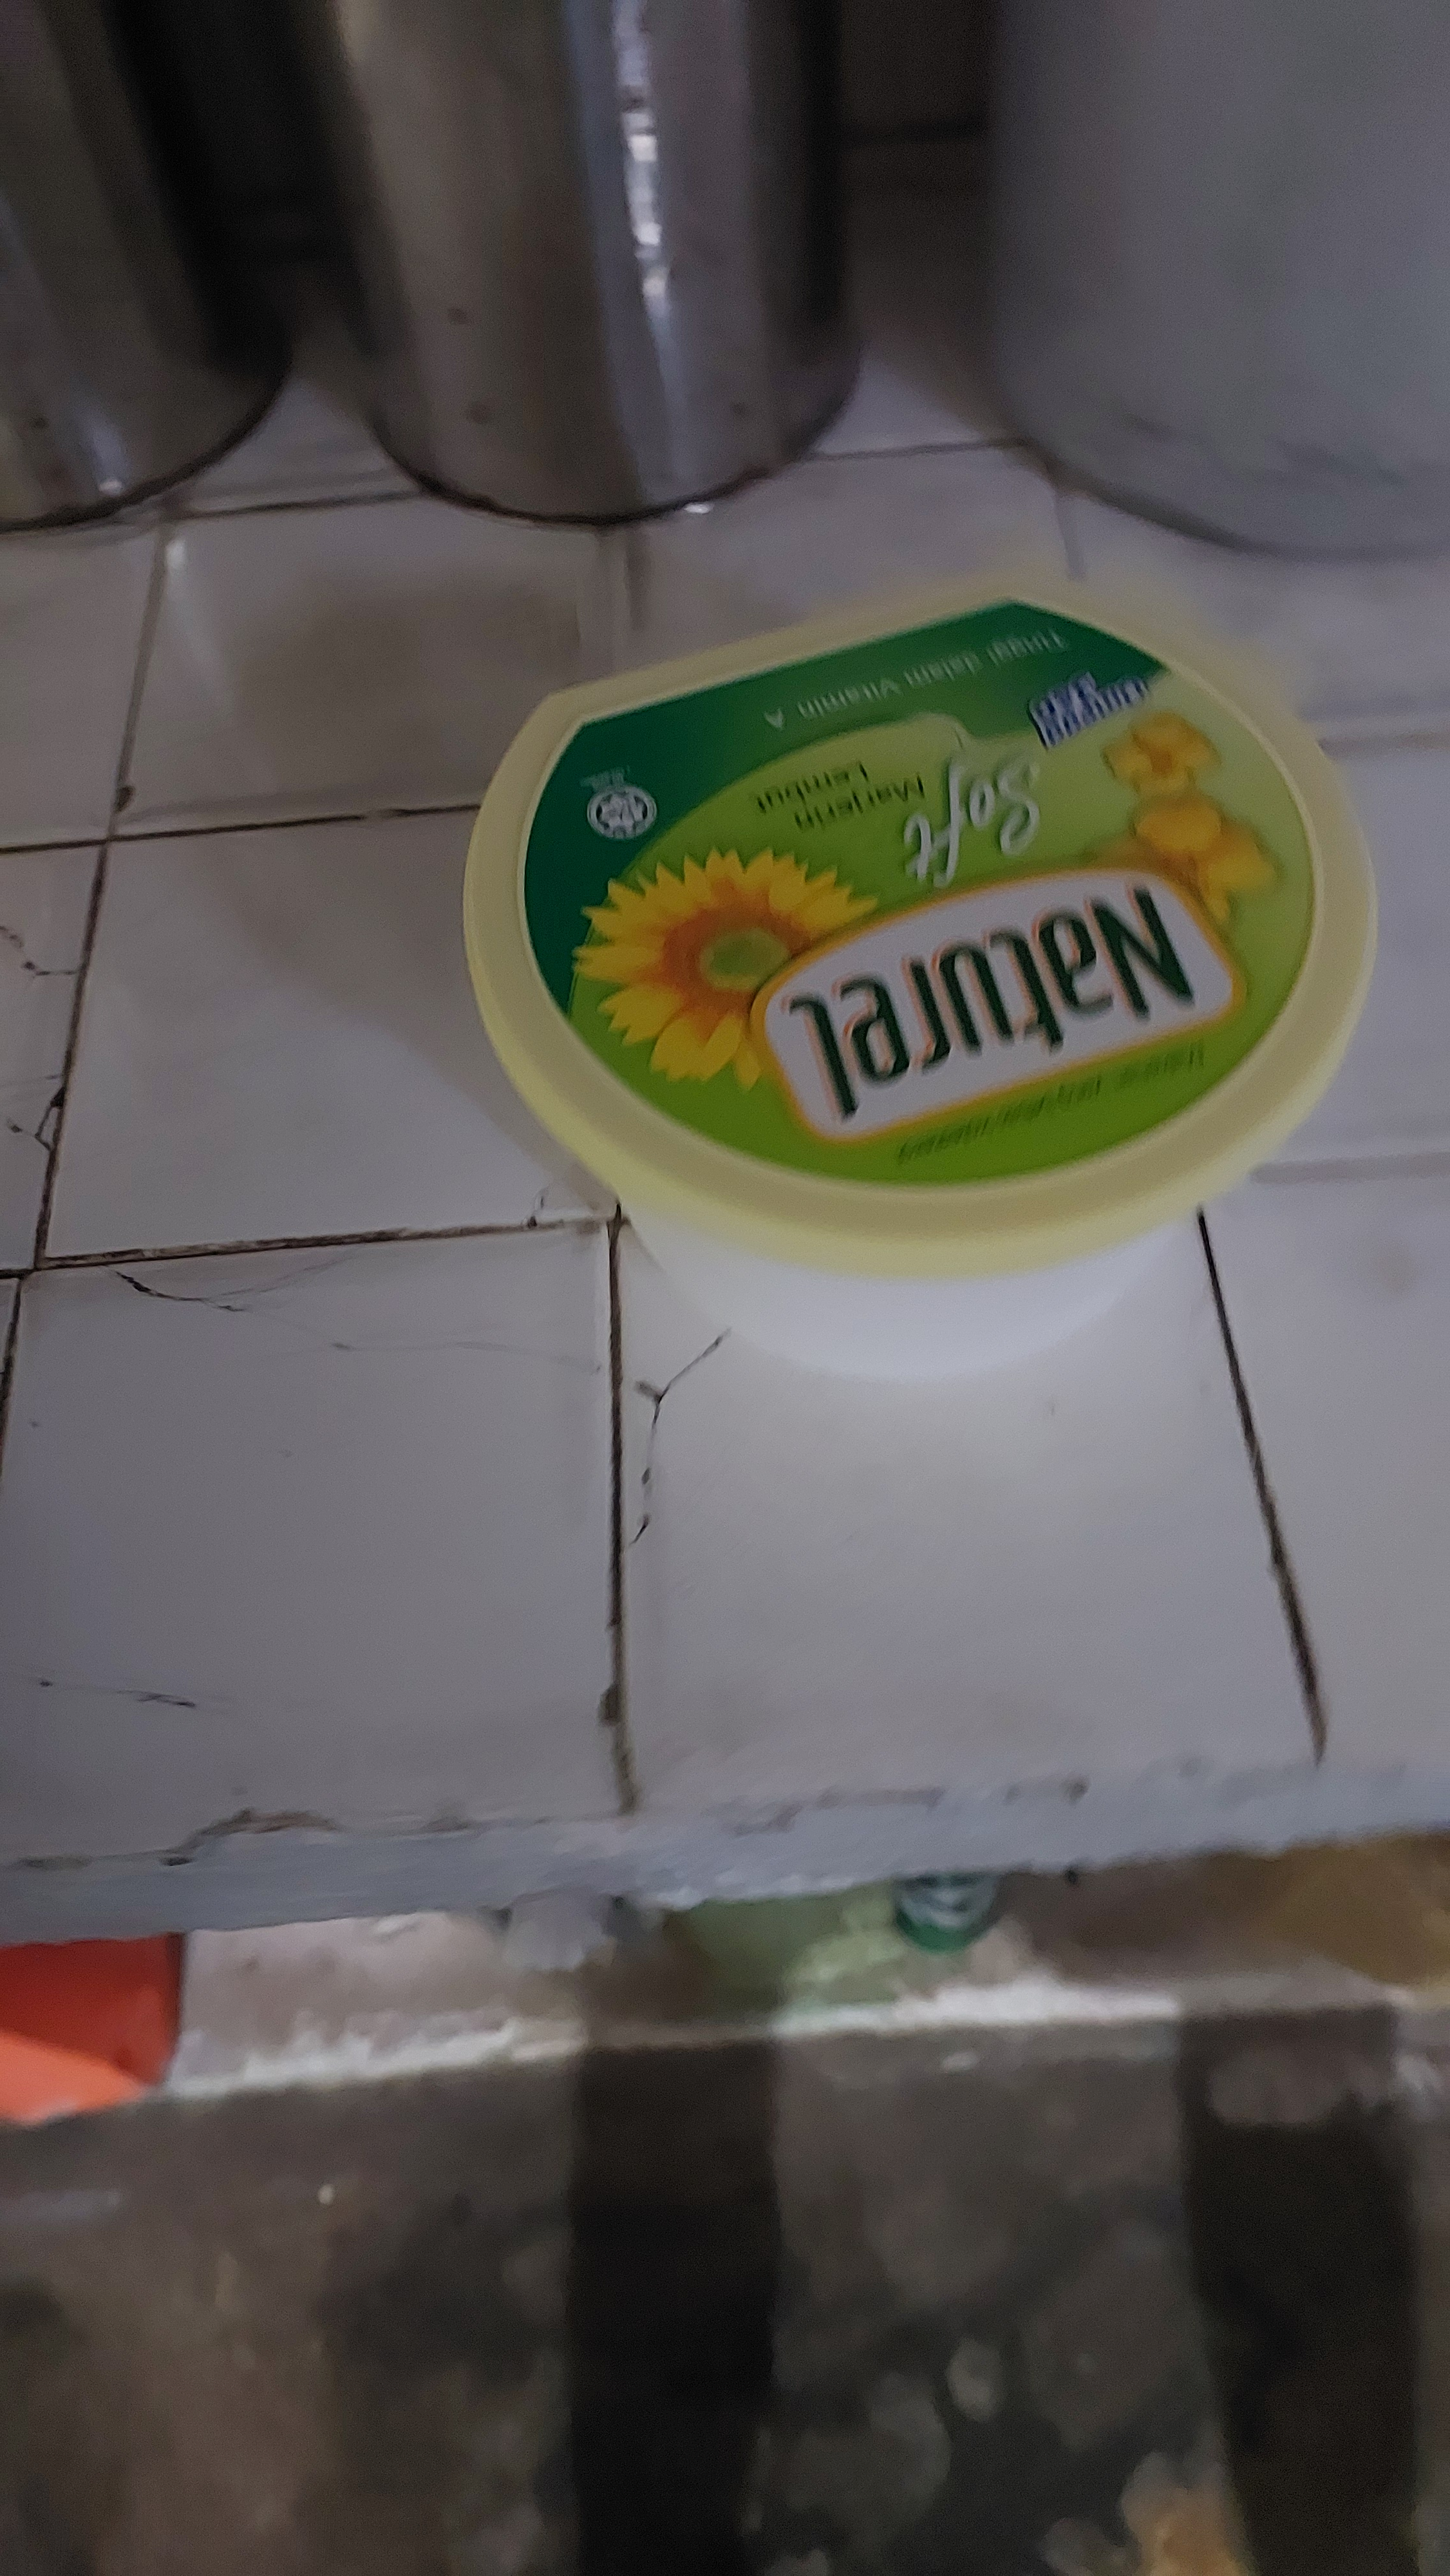butter: (451, 563, 1388, 1391)
